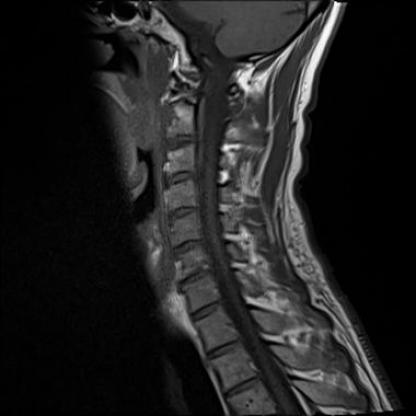Disc Bulgerotation: (175, 267, 214, 286), (165, 202, 198, 221)
